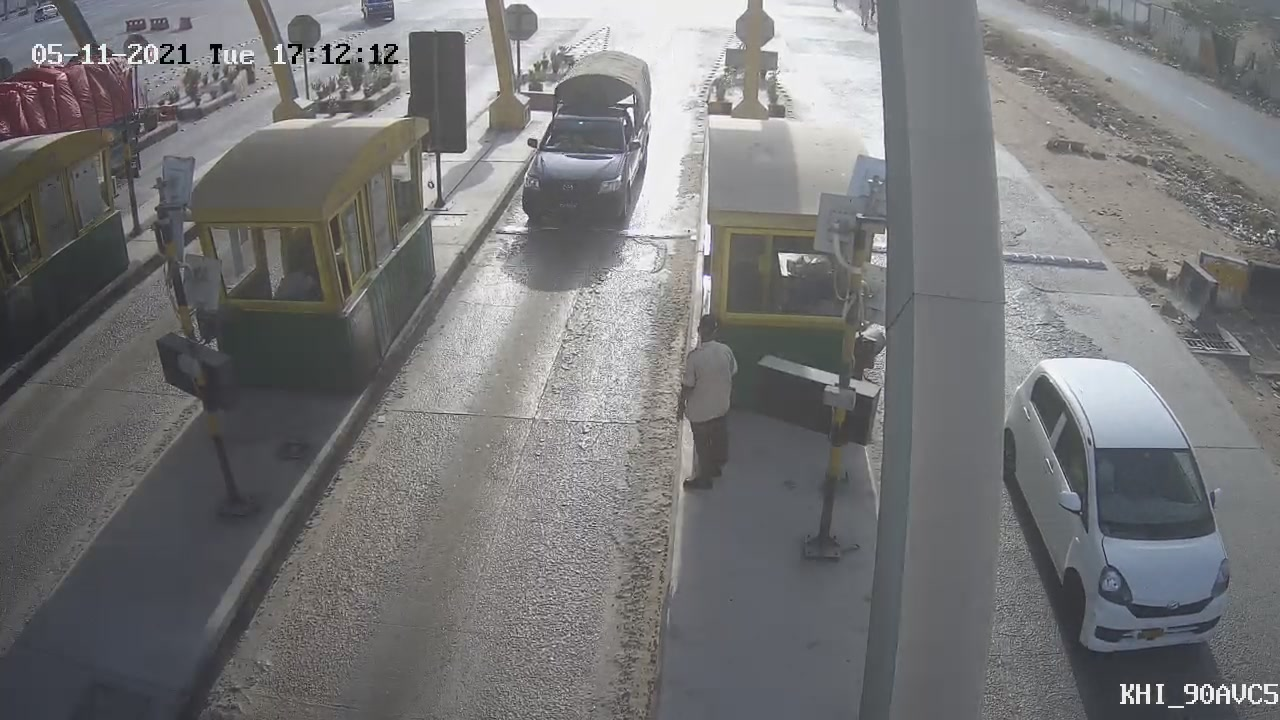F1: (509, 43, 665, 236)
